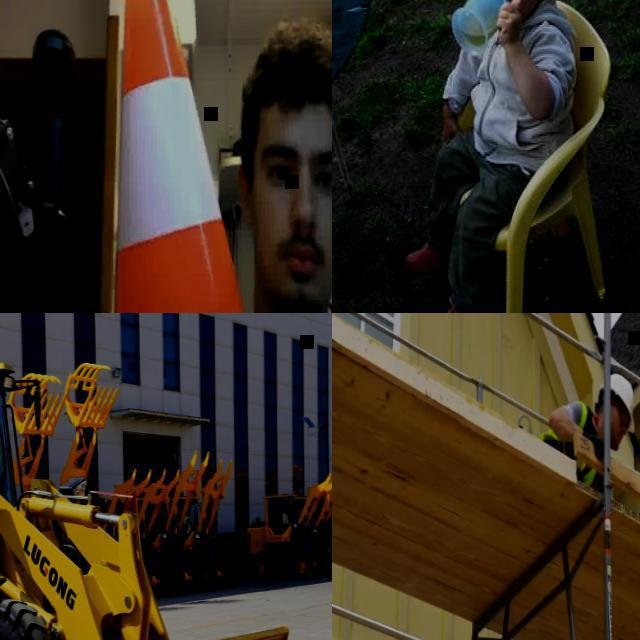helmet: (598, 372, 636, 433)
no_helmet: (240, 10, 332, 302)
